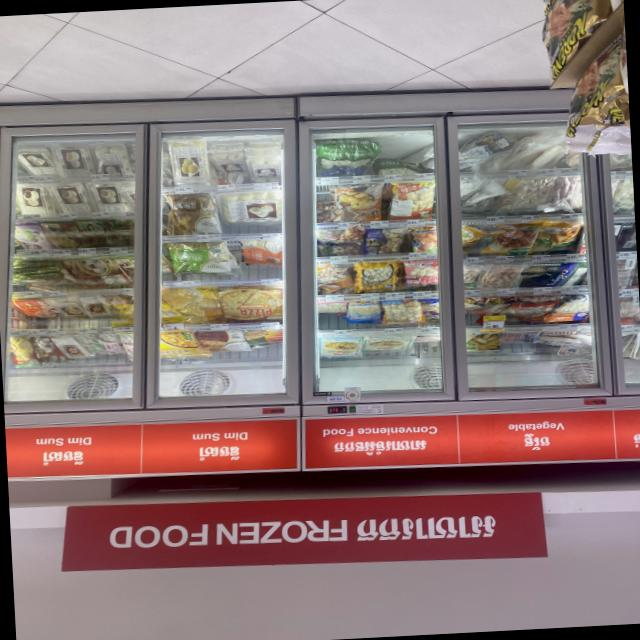Yolov11_80vkh: (350, 511, 500, 545), (328, 435, 431, 458), (38, 447, 88, 468), (193, 442, 242, 461), (519, 432, 553, 453), (633, 432, 640, 449)
